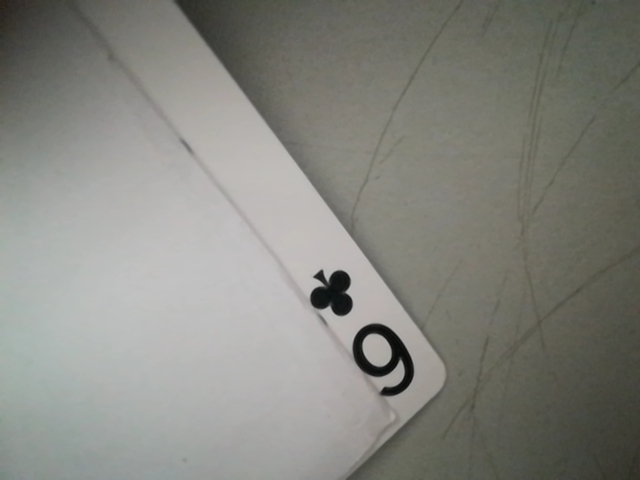mh 6: (294, 255, 434, 415)
